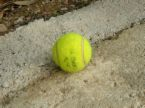tennis ball: (51, 31, 95, 73)
